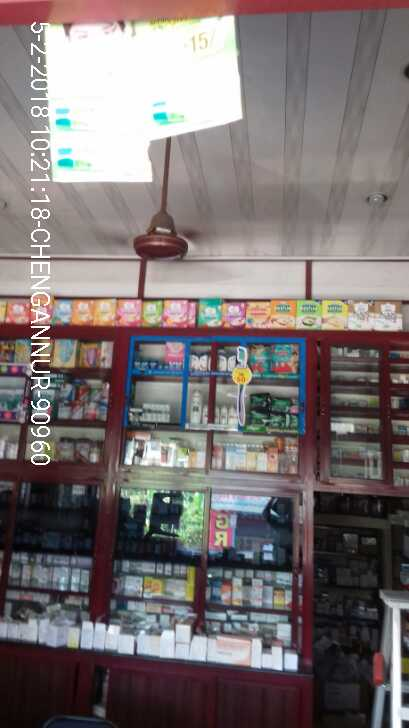vicks: (128, 353, 188, 371)
